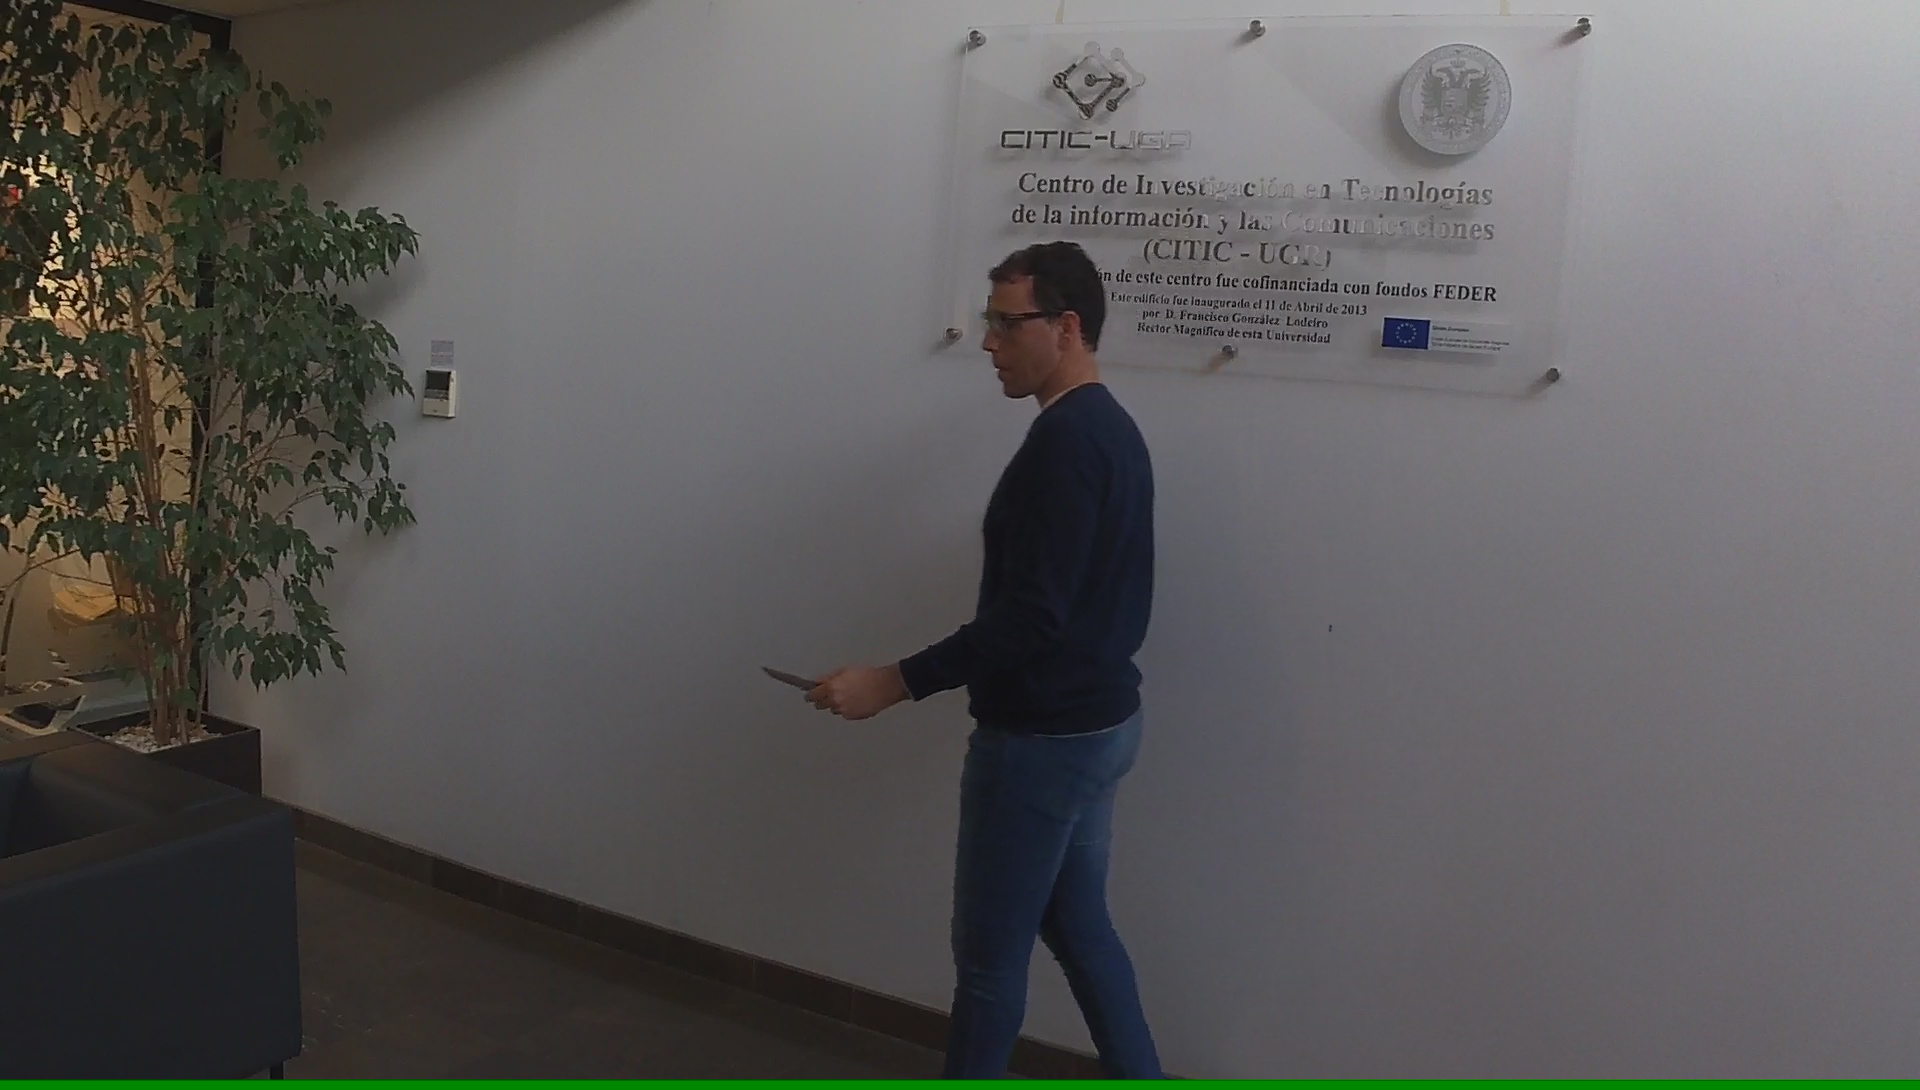knife: (752, 655, 860, 724)
